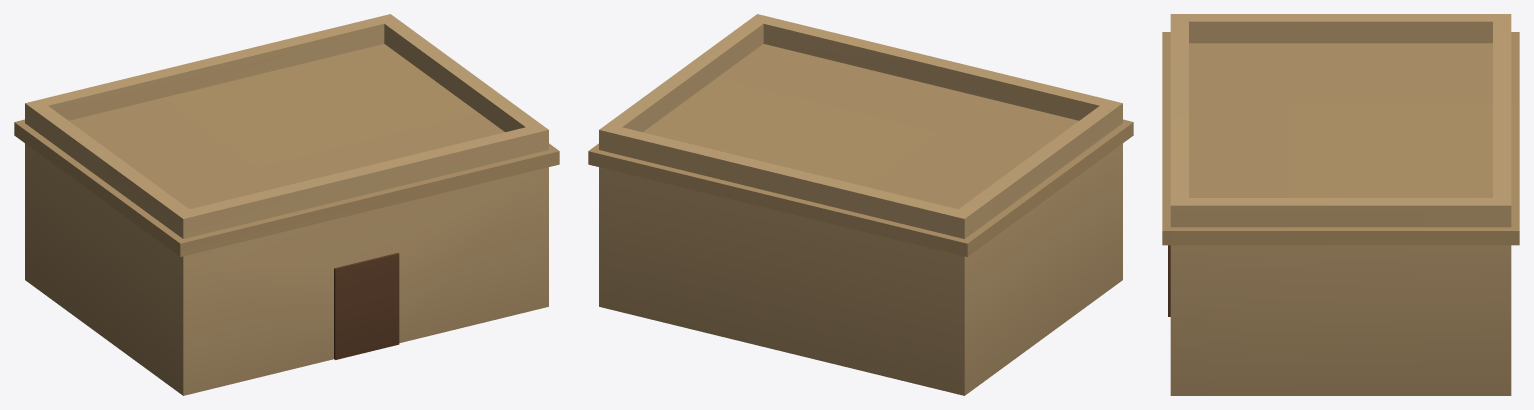
The model's file is moche_hall_lod1.glb.
3 renders of one model, left to right at view 1: azimuth 30°, elevation 25°; view 2: azimuth 150°, elevation 25°; view 3: azimuth 270°, elevation 25°, orthographic. The views are drawn at different scales.
Visible parts, largest first — view 1: GEO-Arch_moche_hall_LOD1; view 2: GEO-Arch_moche_hall_LOD1; view 3: GEO-Arch_moche_hall_LOD1.
Boxes of the visible parts, box(x1,y1,x2,y2) form: GEO-Arch_moche_hall_LOD1: box(14, 14, 559, 395); GEO-Arch_moche_hall_LOD1: box(588, 14, 1133, 395); GEO-Arch_moche_hall_LOD1: box(1162, 14, 1519, 395).
Size of the model in its own units: 8.3 by 3.7 by 6.3.
